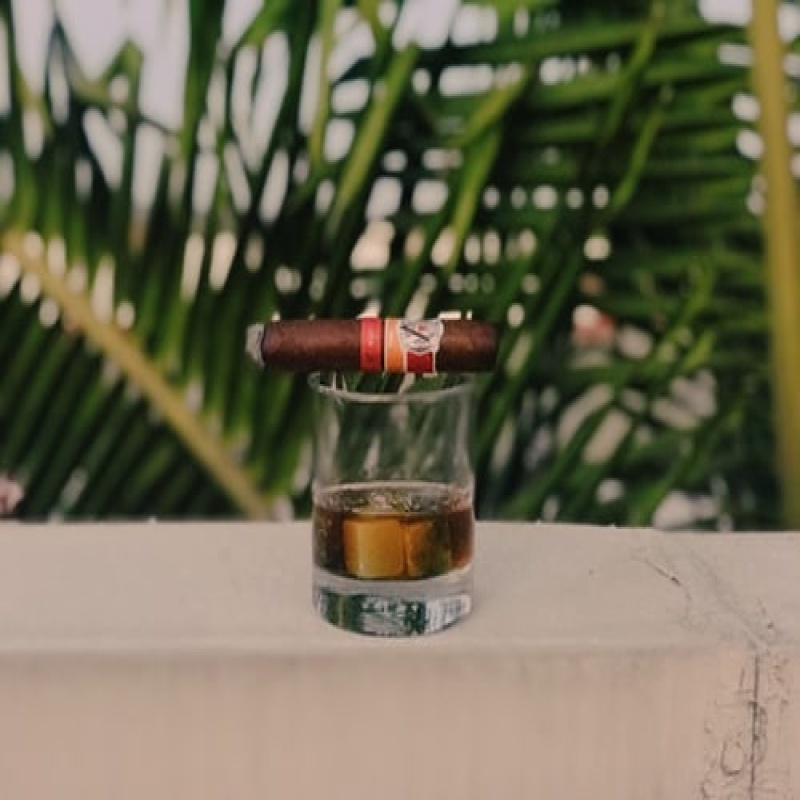whiskey: (298, 370, 486, 625)
